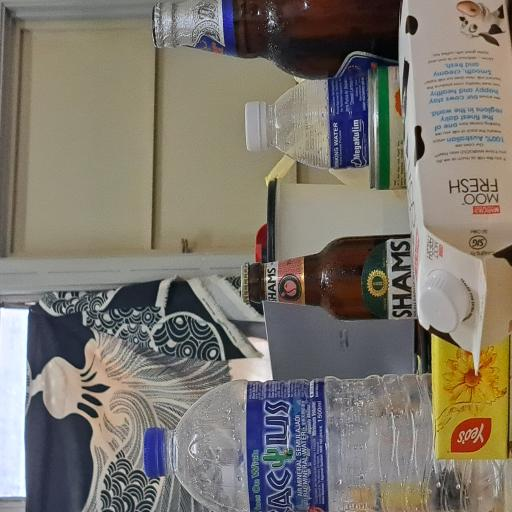can: (239, 492, 334, 512)
glass bottle: (328, 202, 384, 512), (141, 320, 210, 512)
plastic bottle: (0, 222, 109, 512), (255, 351, 334, 512)
plastic bottle cap: (272, 326, 310, 356), (25, 190, 61, 219)
